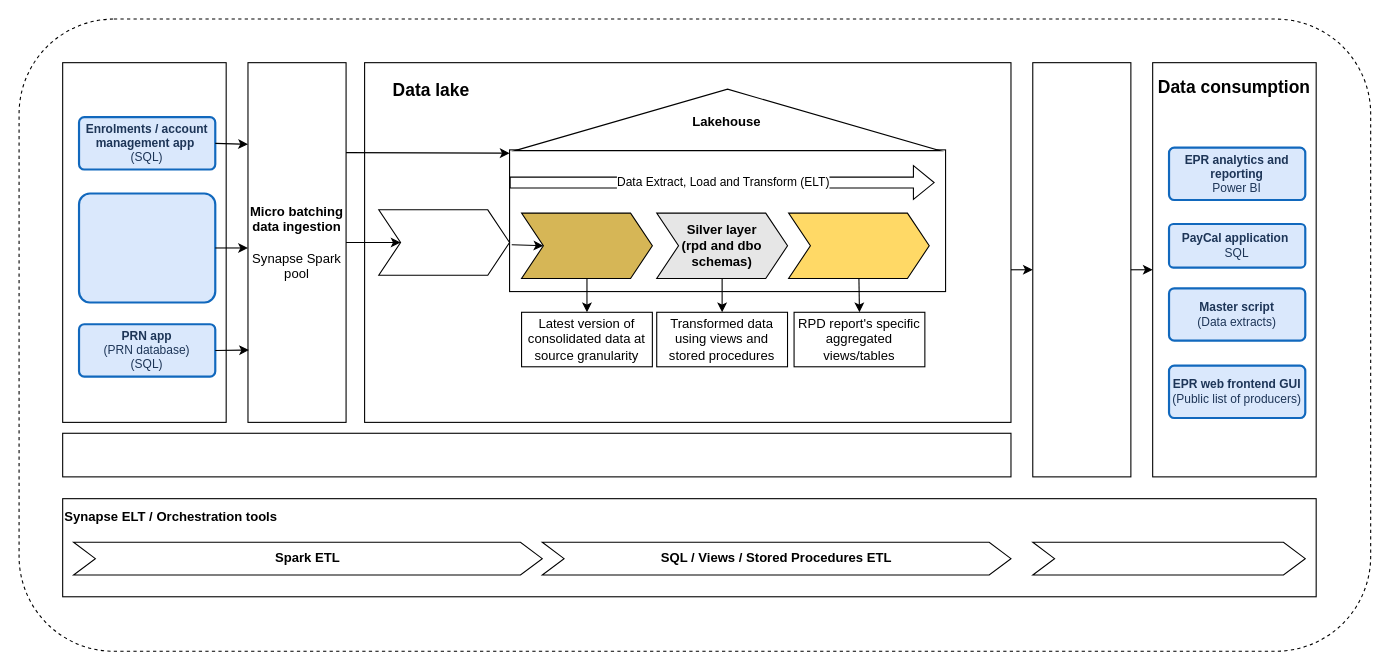
The diagram is 1390 pixels wide and 670 high, and some of its shapes have lost their labels. Here are the shapes that lost their labels. From the top down, the box of each, then its label:
(62, 62, 226, 422): Source systems
(77, 192, 216, 303): File uploads POM, Org details Blob Storage Cosmos DB
(378, 209, 510, 275): Landing area
(520, 212, 652, 278): Bronze layer (all source tables)
(788, 212, 929, 278): Gold layer (dbo and apps schemas)
(1032, 62, 1131, 477): Data service layer
(62, 432, 1011, 477): Data governance, data quality, data security and data lineage
(1032, 541, 1305, 575): App connectors
